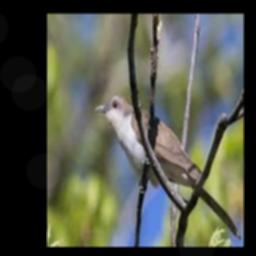Cuckoo: (95, 95, 241, 239)
